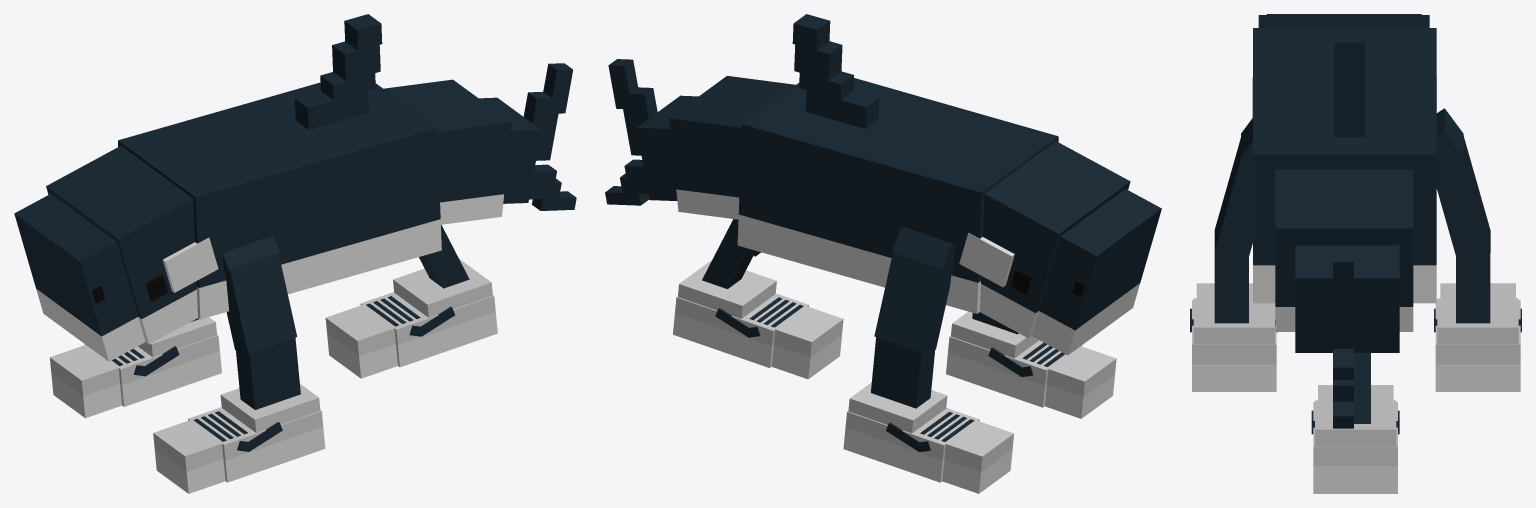
Rendered from Orcalero_Orcala.fbx.
3 renders of one model, left to right at view 1: azimuth 30°, elevation 25°; view 2: azimuth 150°, elevation 25°; view 3: azimuth 270°, elevation 25°, orthographic. The views are drawn at different scales.
Parts seen in each view (by area): view 1: Orcalero_Orcala; view 2: Orcalero_Orcala; view 3: Orcalero_Orcala.
Part boxes in pixels (left/top/right/bottom): Orcalero_Orcala: left=14, top=14, right=576, bottom=493; Orcalero_Orcala: left=605, top=14, right=1161, bottom=493; Orcalero_Orcala: left=1190, top=14, right=1521, bottom=493.
Size of the model in its own units: 1117 by 745 by 518.
